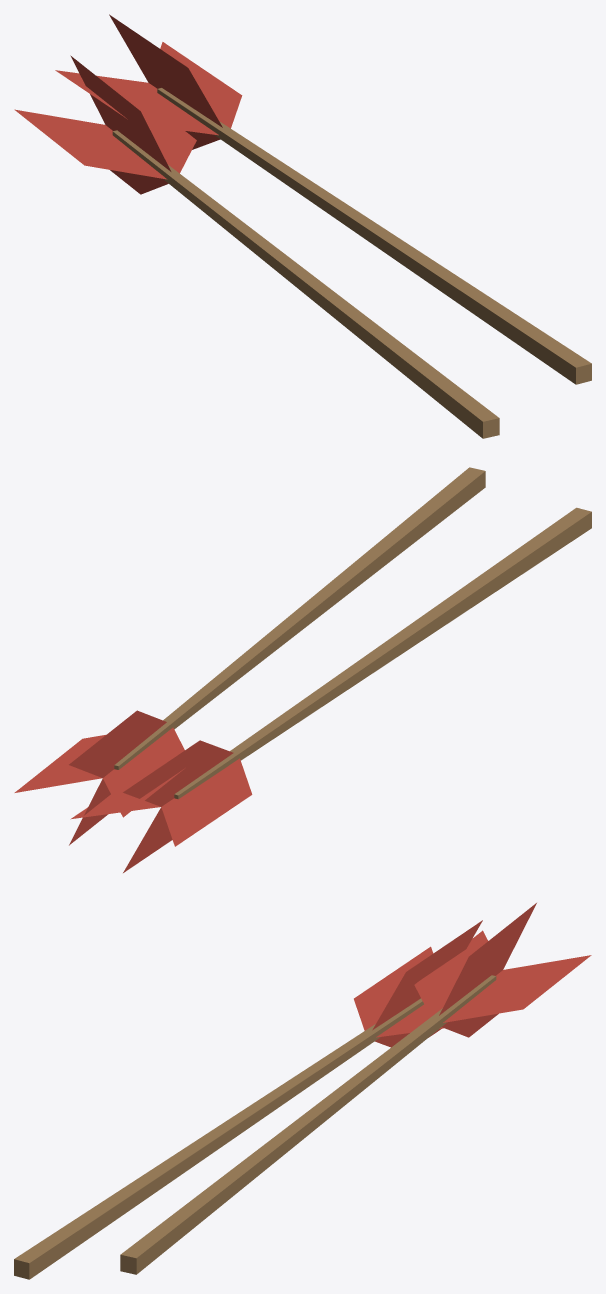
The model's file is HeadlessArrowStack2.glb.
The picture shows the model from 3 angles, top to bottom: view 1: azimuth 30°, elevation 25°; view 2: azimuth 150°, elevation 25°; view 3: azimuth 330°, elevation 25°; orthographic projection. The views are drawn at different scales.
Parts seen in each view (by area): view 1: HeadlessArrowStack2; view 2: HeadlessArrowStack2; view 3: HeadlessArrowStack2.
Part boxes in pixels (x1,y1,x2,y2): HeadlessArrowStack2: [14, 14, 591, 438]; HeadlessArrowStack2: [14, 467, 591, 872]; HeadlessArrowStack2: [14, 903, 591, 1279].
Bounding box in the file's own units: 0.1345 × 0.0825 × 0.6417.
